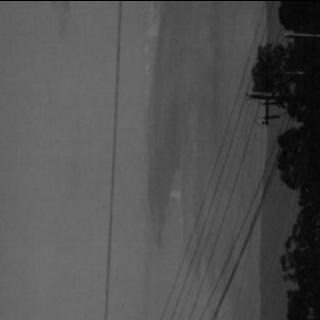Stratocumulus: (30, 0, 265, 320)
